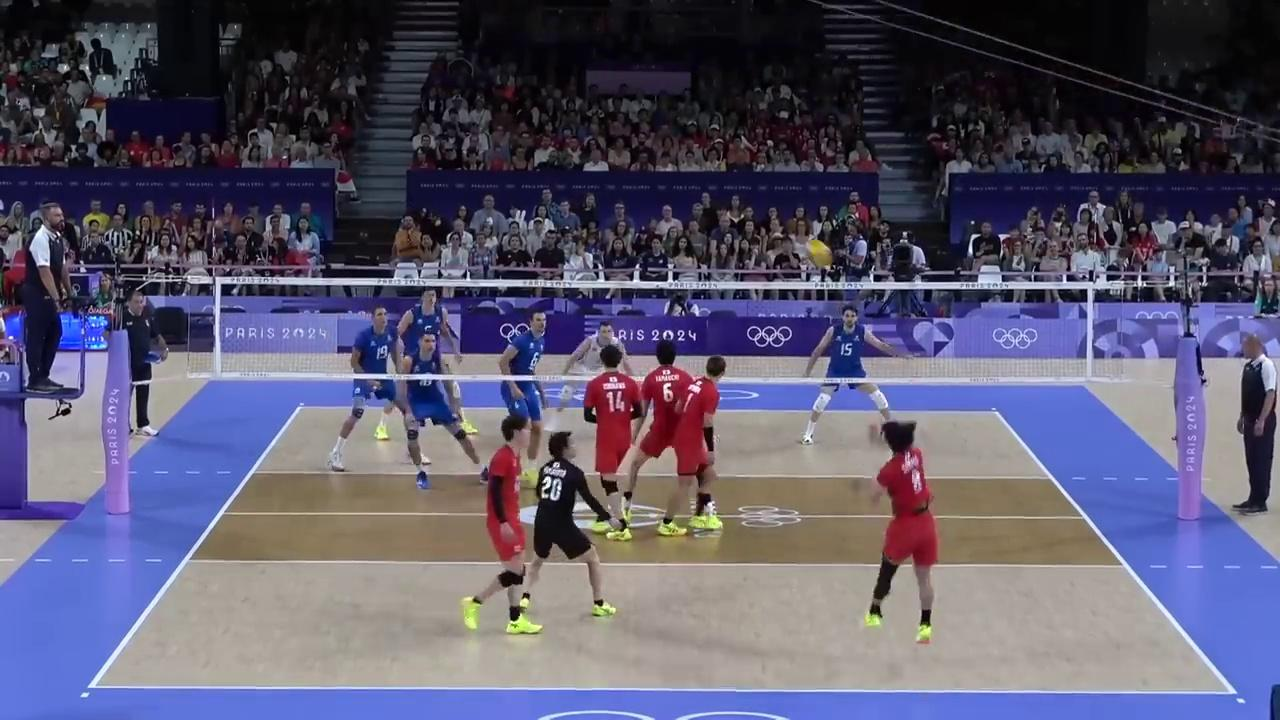ball: (806, 238, 833, 270)
